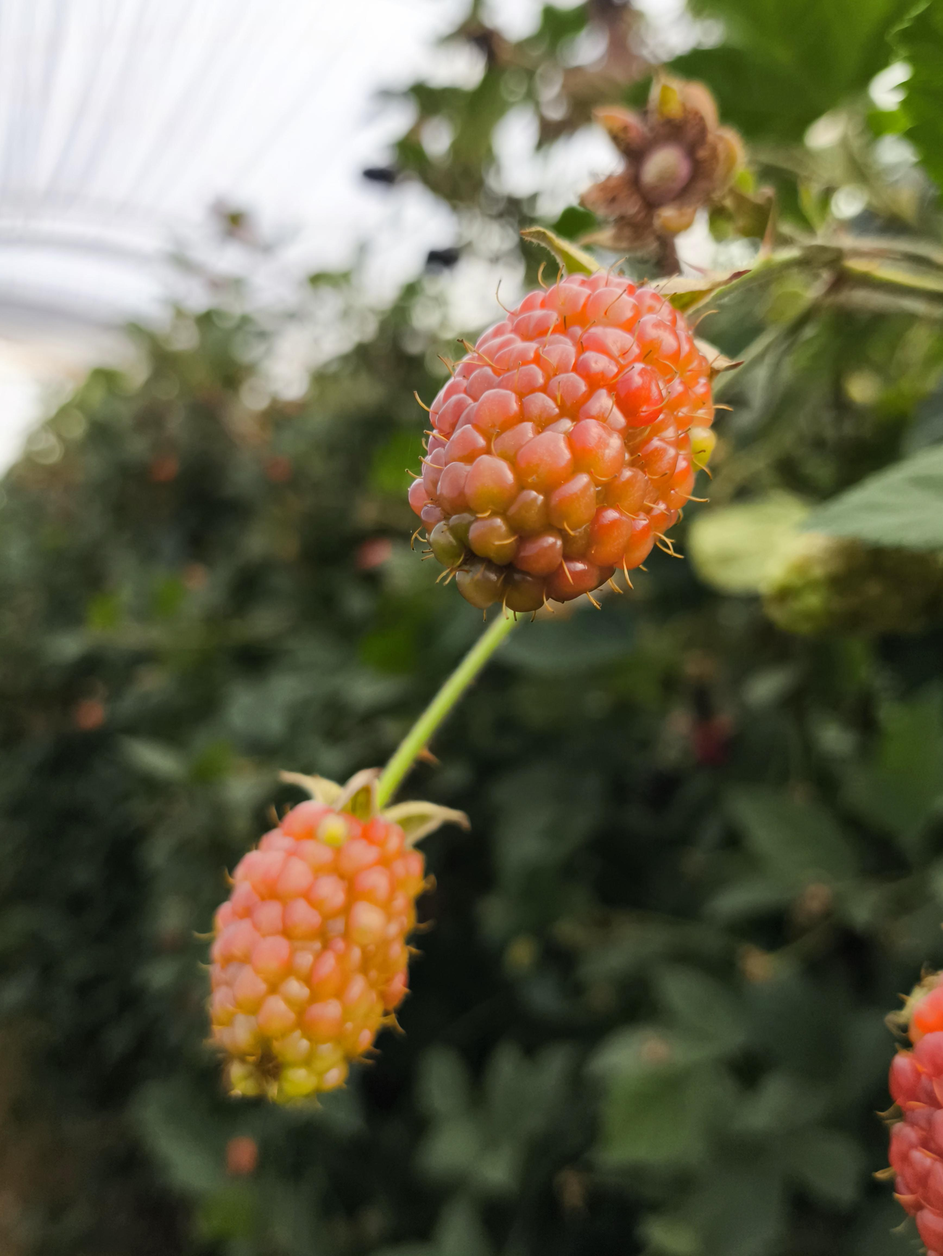naranja: (408, 274, 713, 617), (209, 778, 424, 1103)
